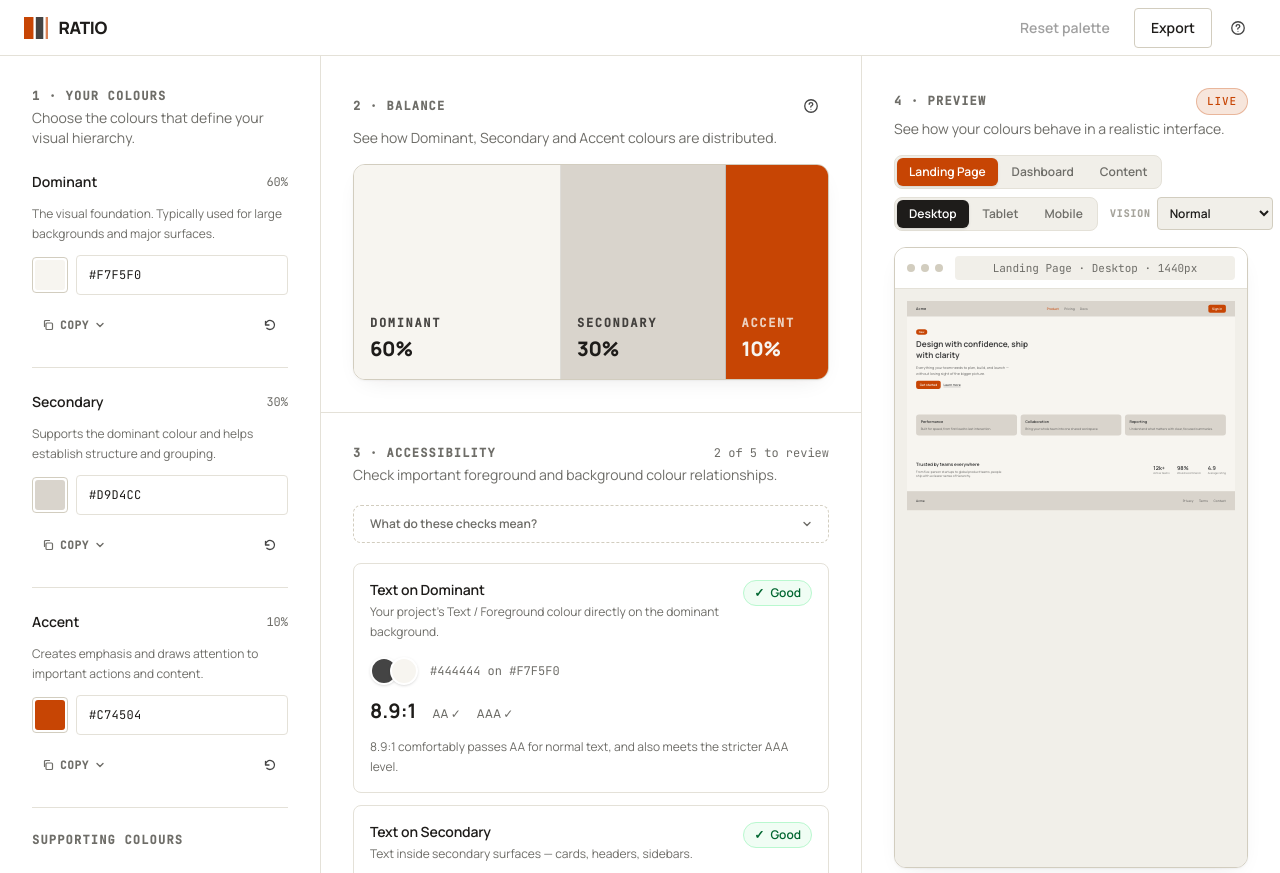
Test: WorkspaceShell › first-run guidance › can be reopened on demand from the topbar without blocking the app beforehand
Click the button named "How RATIO works": click(1238, 28) [1220,10,1256,46]
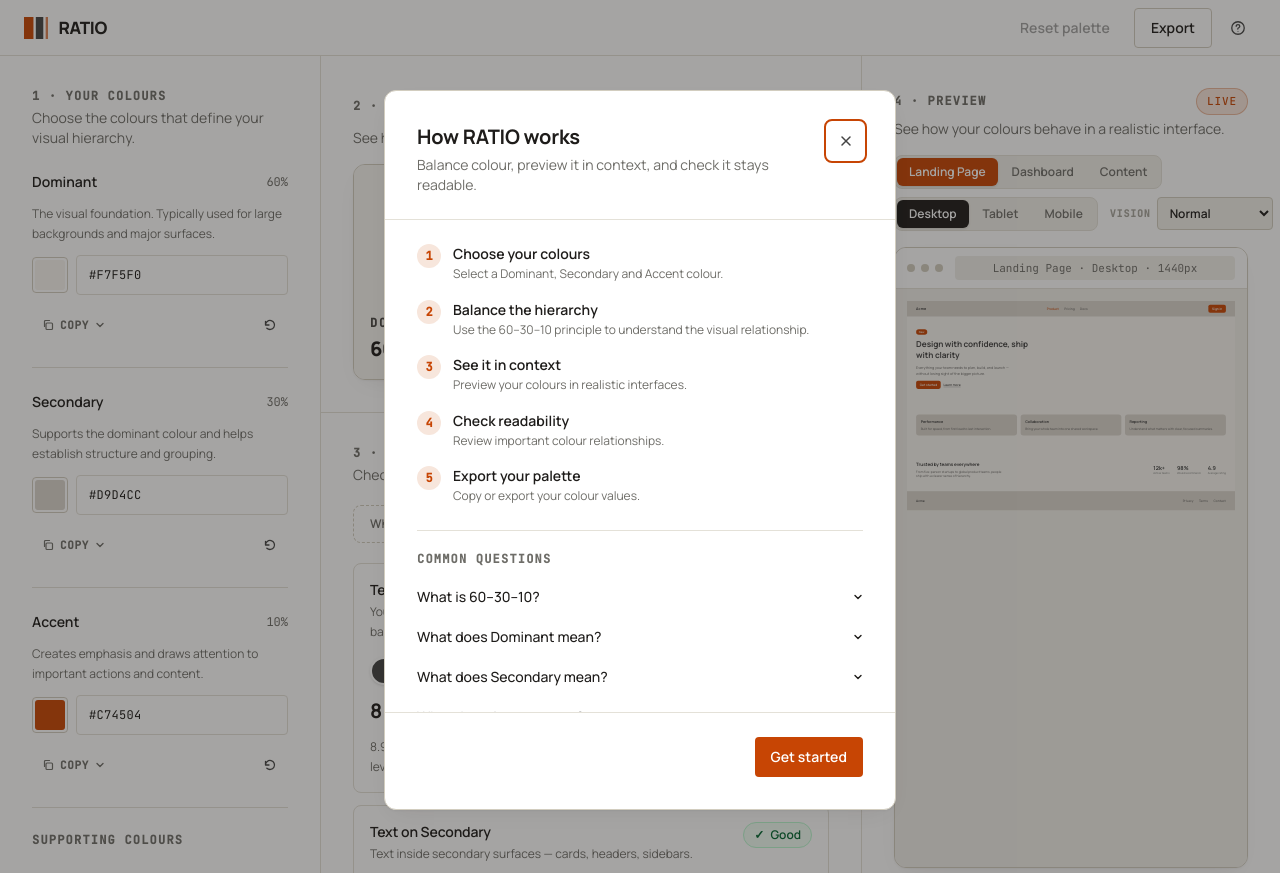
Now the dialog "How RATIO works" is shown, box [384,90,896,810]
